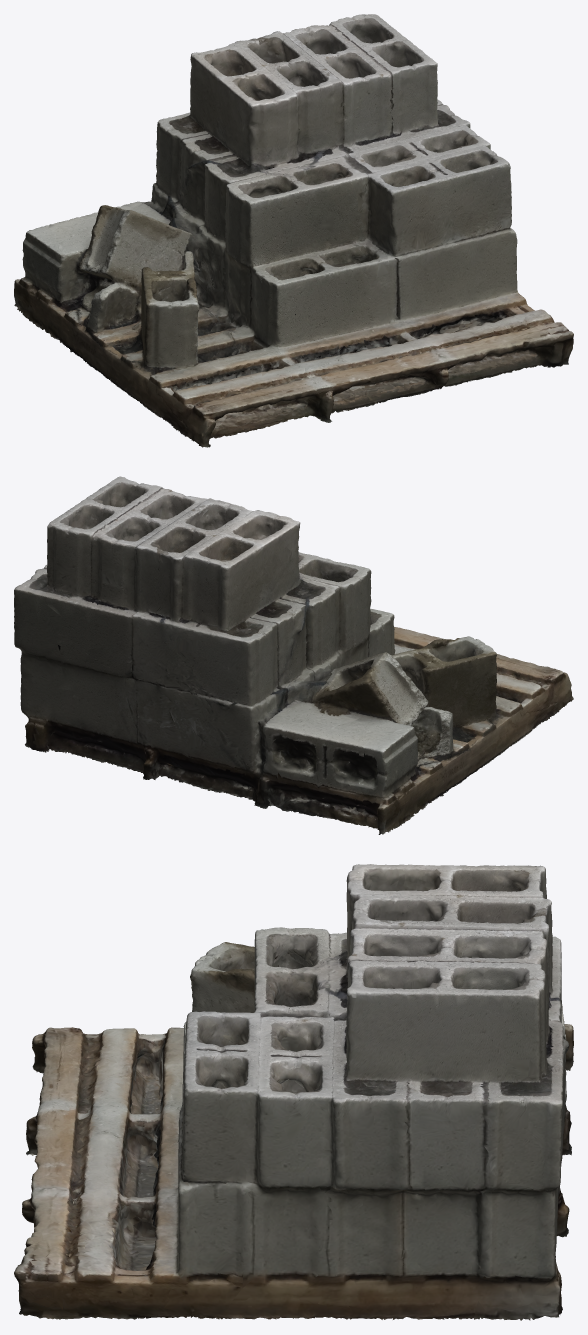
File: cinderpallet.glb
3 views of the same model, one above another, from view 1: azimuth 30°, elevation 25°; view 2: azimuth 150°, elevation 25°; view 3: azimuth 270°, elevation 25° (orthographic). The views are drawn at different scales.
Parts seen in each view (by area): view 1: texturedMesh; view 2: texturedMesh; view 3: texturedMesh.
Part boxes in pixels (x1,y1,x2,y2): texturedMesh: (14,14,573,447); texturedMesh: (14,476,573,834); texturedMesh: (14,864,573,1320).
Bounding box in the file's own units: 0.6784 × 0.3887 × 0.6161.
7 materials, 7 textured.
